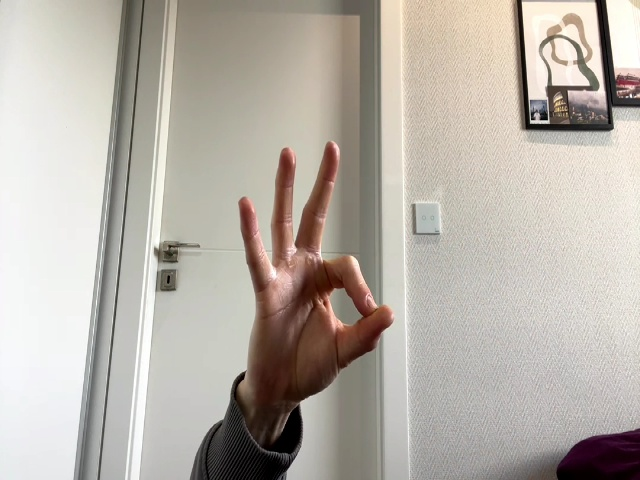O: (239, 140, 394, 396)
